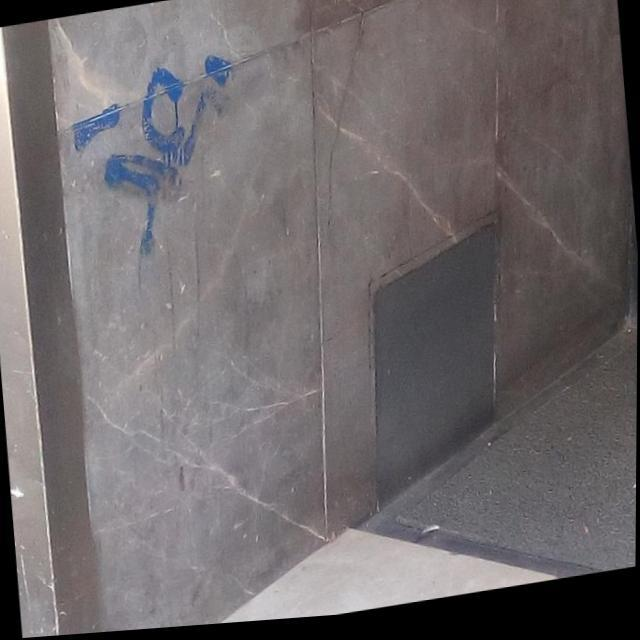-: (66, 53, 250, 270)
